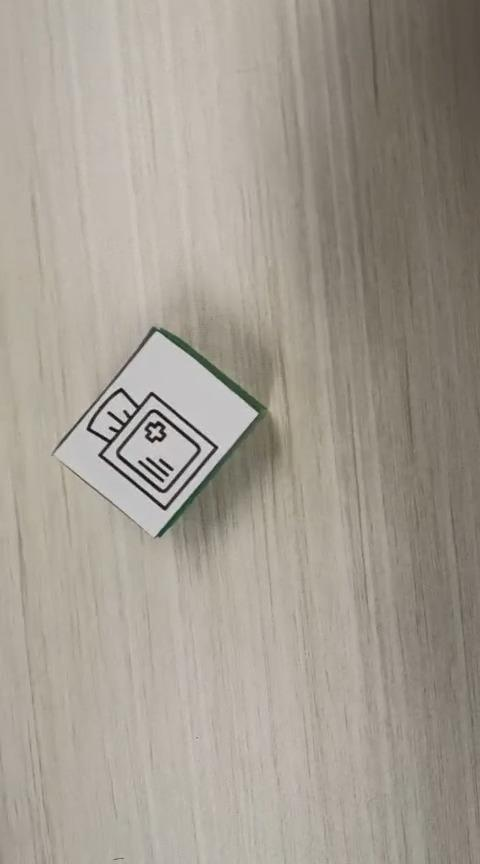Gauze: (50, 324, 268, 539)
